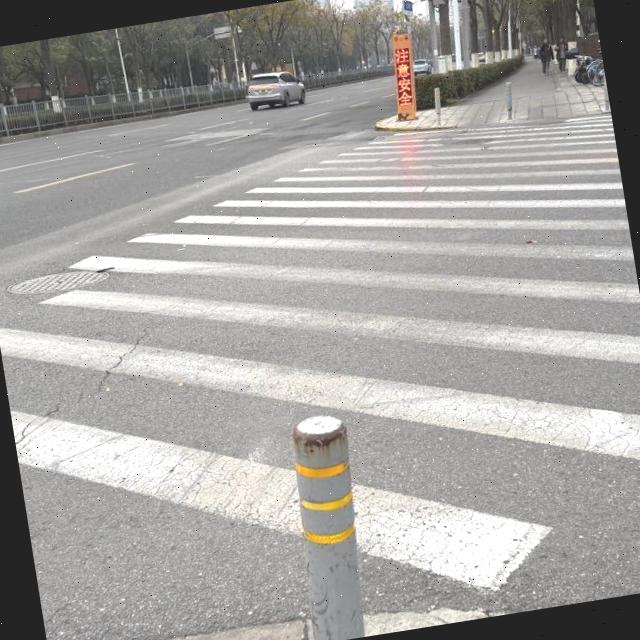curb: (0, 99, 246, 144), (367, 609, 486, 635), (176, 620, 314, 640), (307, 72, 395, 91), (377, 118, 452, 130)
